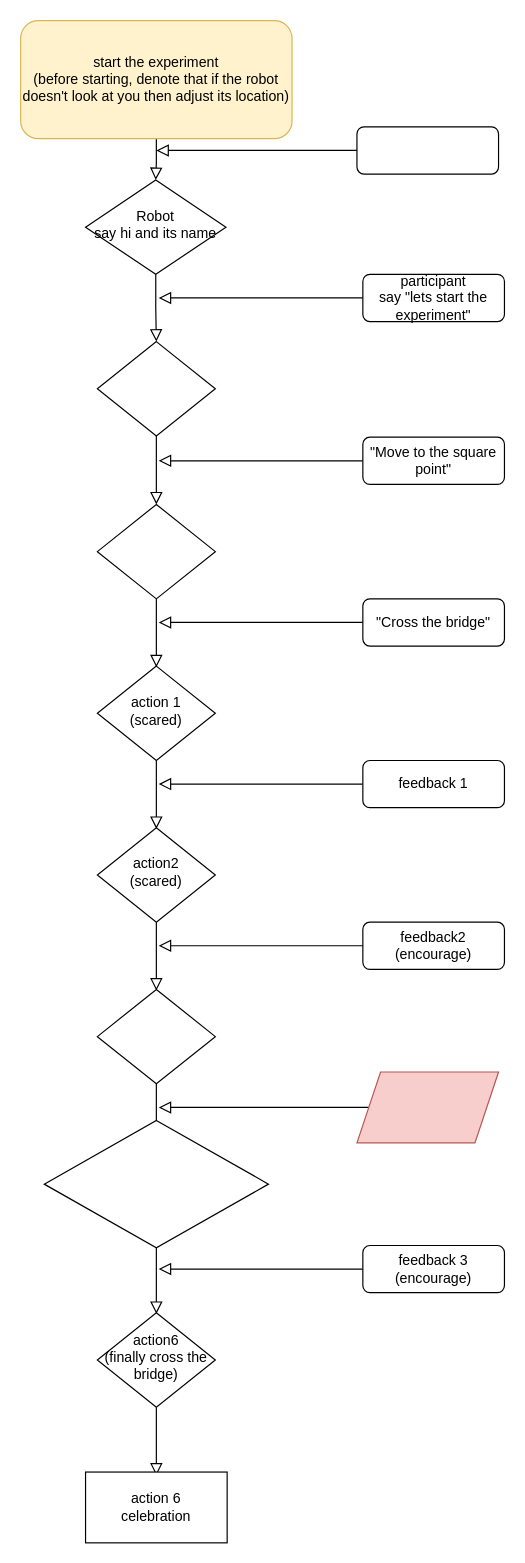
Image size: 525x1563. Some labels were removed from this diagram. The centre of each missing label's shape, as x and y in pixels:
action 3 (move forward): the point at 155,1036
action 4 (run away from obstruction) + action 5 (give up): the point at 155,1183
encounter gigantic obstruction: the point at 427,1107
participant say hi and their names: the point at 427,150
Robot Move forward: the point at 155,551
Robot say "of course": the point at 155,388
